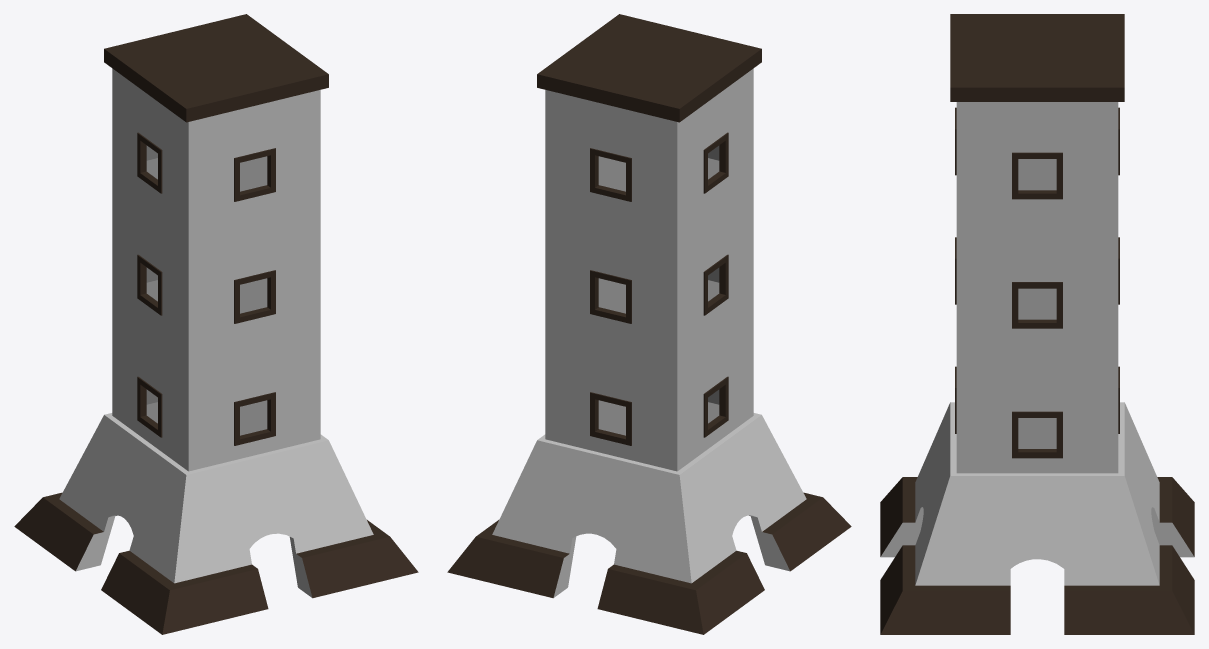
The model's file is tower_3_sket.dae.
3 views of the same model, side by side, from view 1: azimuth 30°, elevation 25°; view 2: azimuth 150°, elevation 25°; view 3: azimuth 270°, elevation 25° (orthographic). The views are drawn at different scales.
Visible parts, largest first — view 1: SketchUp (×15); view 2: SketchUp (×15); view 3: SketchUp (×13).
Boxes of the visible parts, left/top/right/bottom form: SketchUp (×15): left=14, top=14, right=418, bottom=634; SketchUp (×15): left=447, top=14, right=851, bottom=634; SketchUp (×13): left=880, top=14, right=1194, bottom=634.
Bounding box in the file's own units: 390 × 390 × 709.
